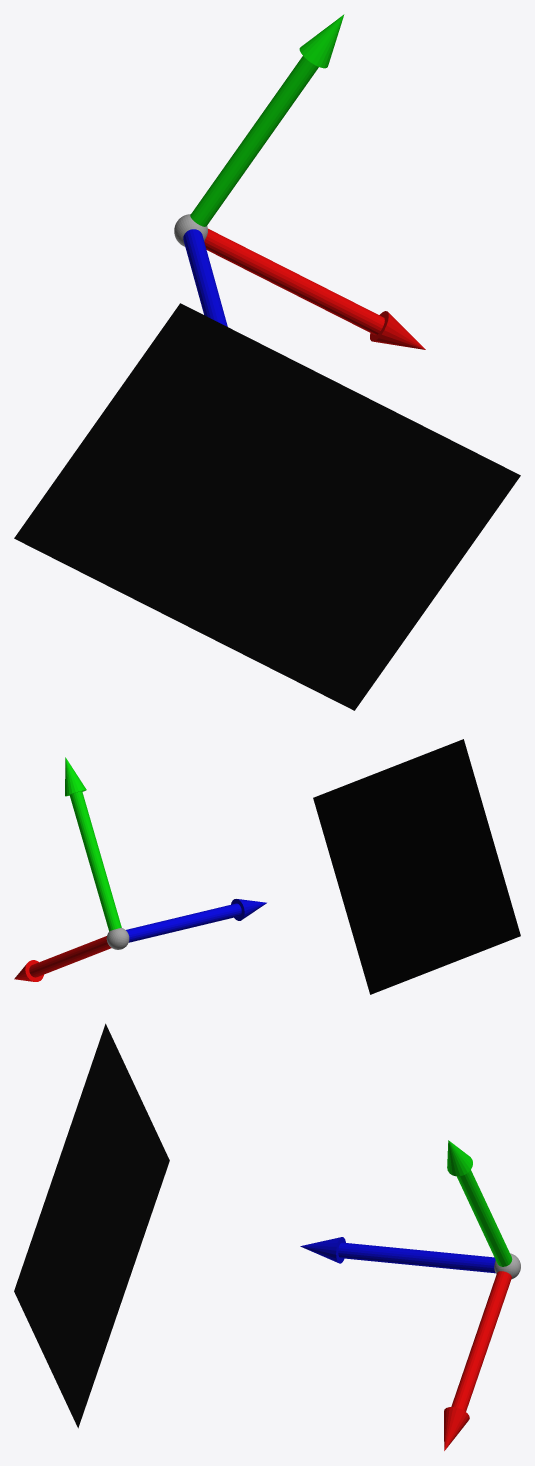
The picture shows the model from 3 angles, top to bottom: view 1: azimuth 30°, elevation 25°; view 2: azimuth 150°, elevation 25°; view 3: azimuth 270°, elevation 25°; orthographic projection. The views are drawn at different scales.
Bounding box in the file's own units: 0.298 × 0.2297 × 0.2815.
